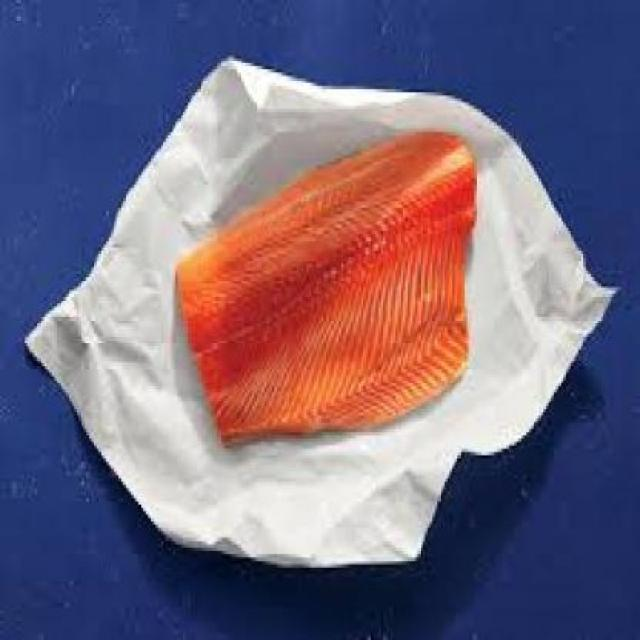salmon: (155, 126, 504, 469)
